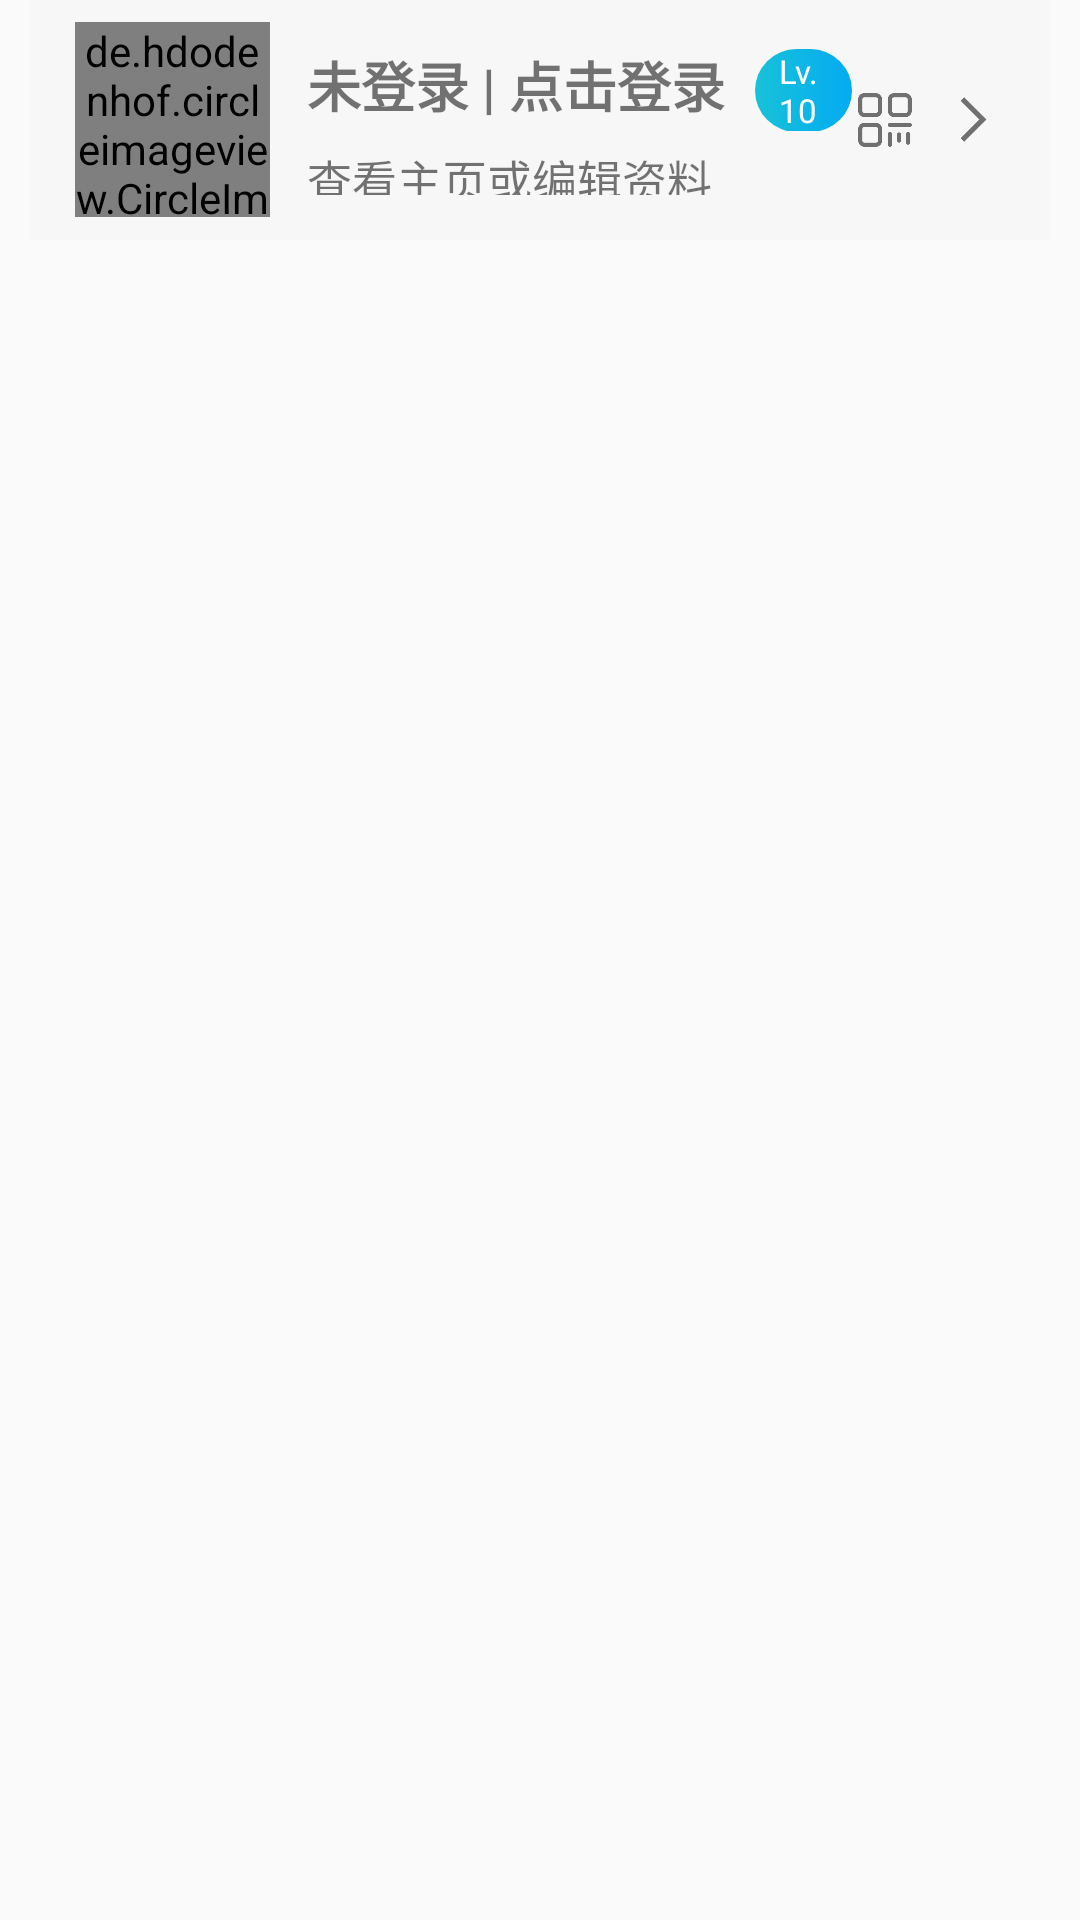

Where to tap for icons on this 1080px x 1920px app screen, as [x,y]:
user erwei: [885,120]
